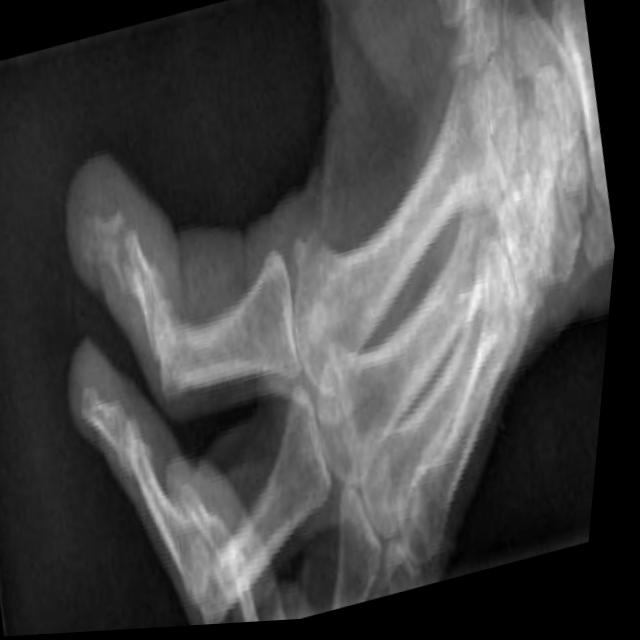fracture: (93, 200, 166, 338)
